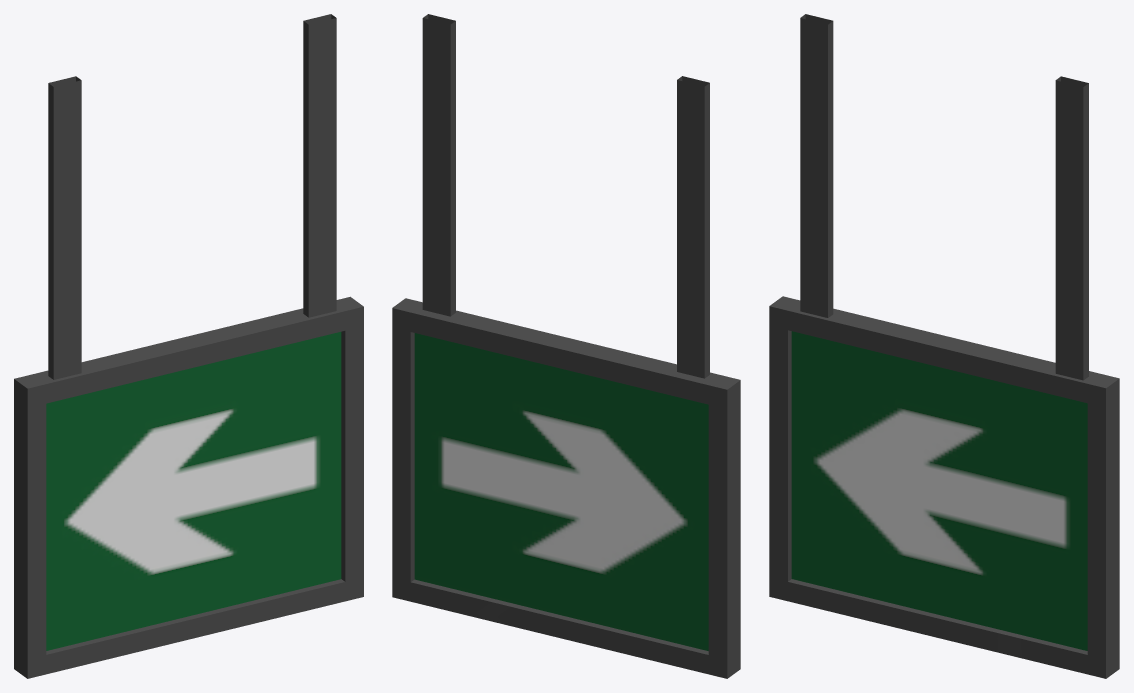
The model's file is Direction.fbx.
The picture shows the model from 3 angles, left to right: view 1: azimuth 30°, elevation 25°; view 2: azimuth 150°, elevation 25°; view 3: azimuth 330°, elevation 25°; orthographic projection.
Visible parts, largest first — view 1: Direction; view 2: Direction; view 3: Direction.
Boxes of the visible parts, x1,y1,x2,y2 form: Direction: (14,14,363,678); Direction: (392,14,740,678); Direction: (769,14,1119,678).
Bounding box in the file's own units: 27.24 × 45.13 × 1.9.
